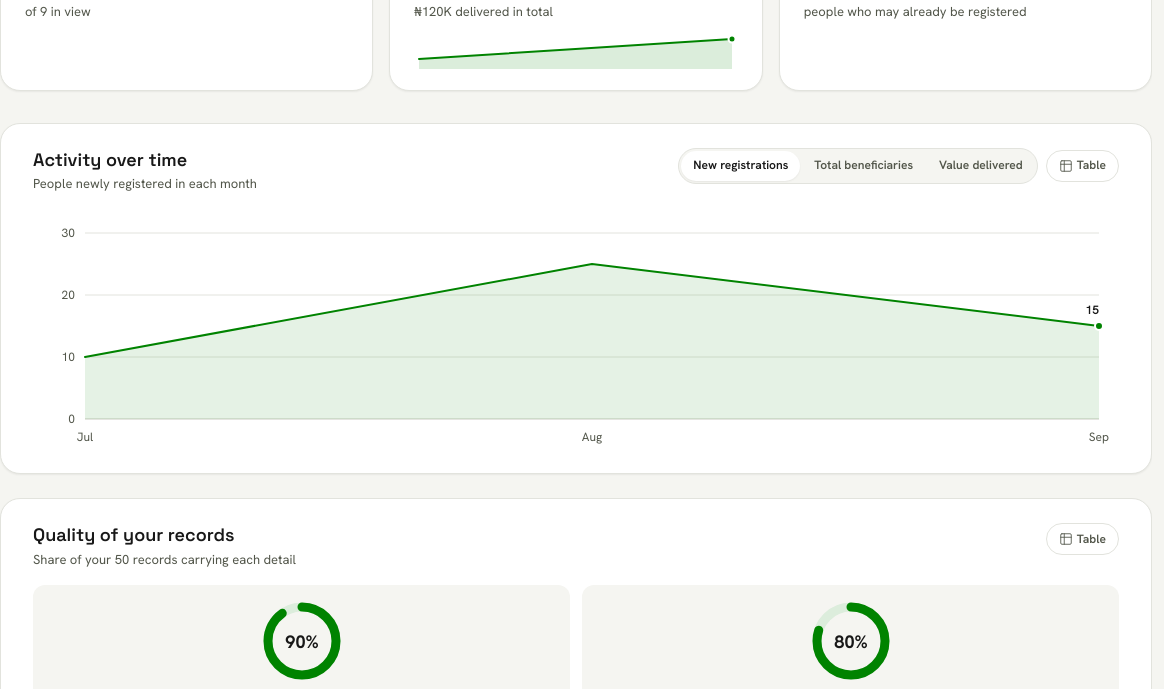
Test: MdaReportsDashboard › walks the trend month by month from the keyboard
(page scrolled)
Focus the picture named "New registrations" at (576, 329), box [33,209,1119,449]
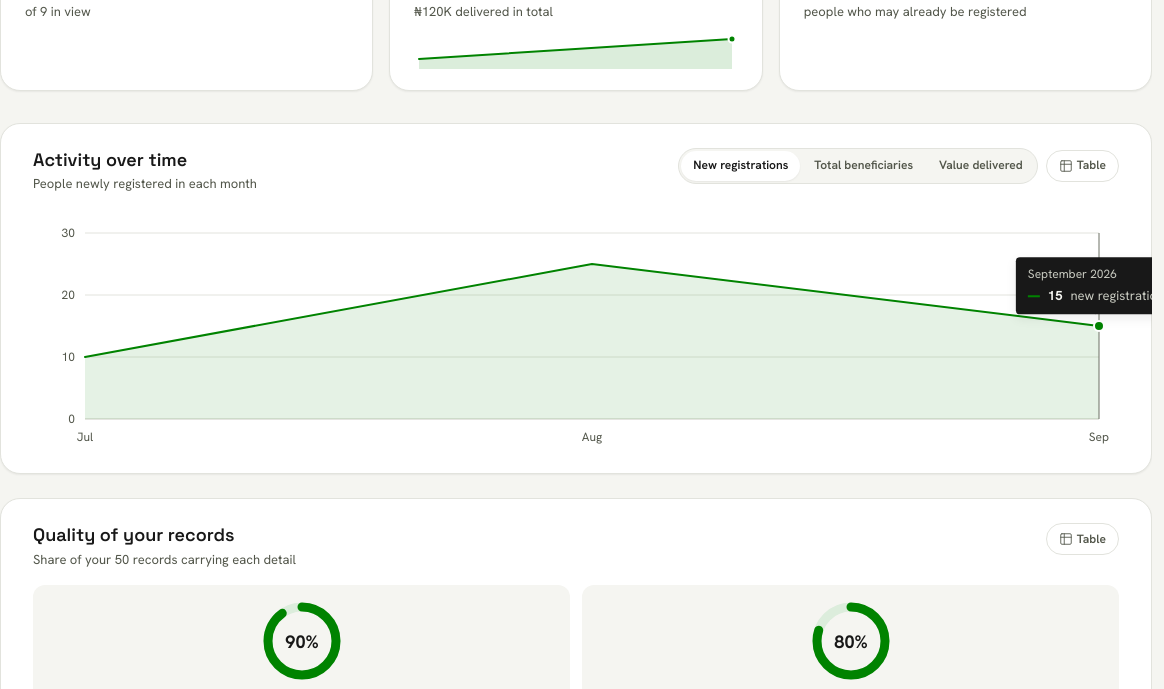
expect the text "September 2026" is shown: met, box [1028,266,1117,282]
Press ArrowLeft in the picture named "New registrations", box [33,209,1119,449]
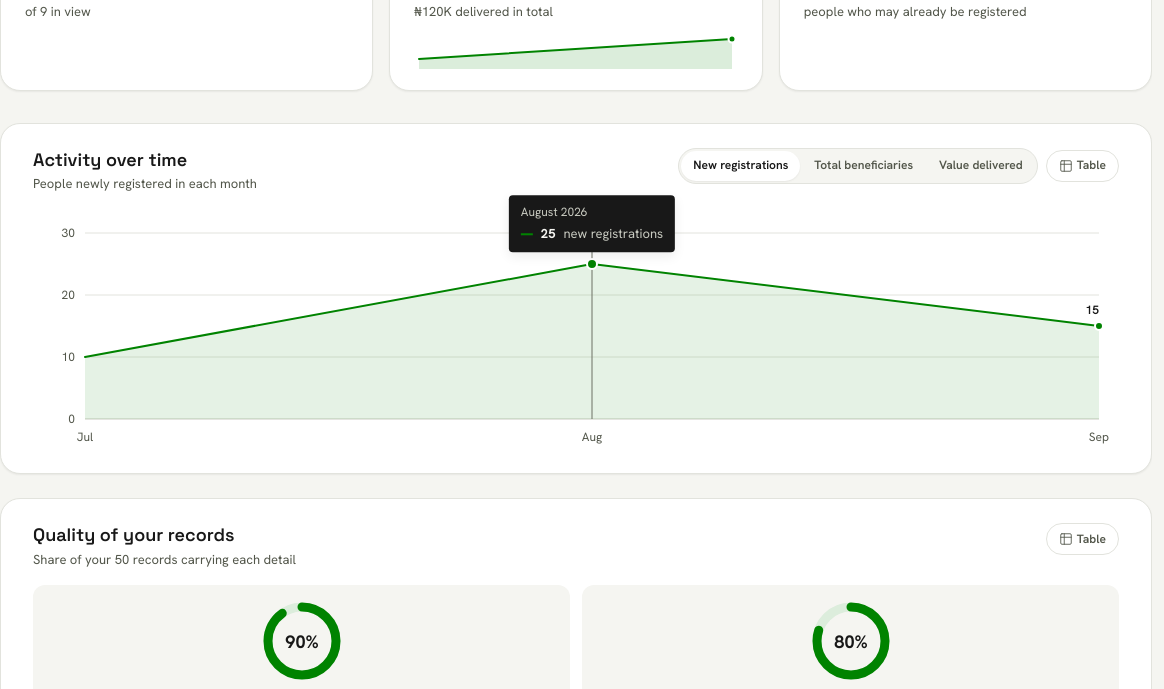
expect the text "August 2026" is shown: met, box [521,204,588,220]
expect the text "25" is shown: met, box [541,224,556,244]
